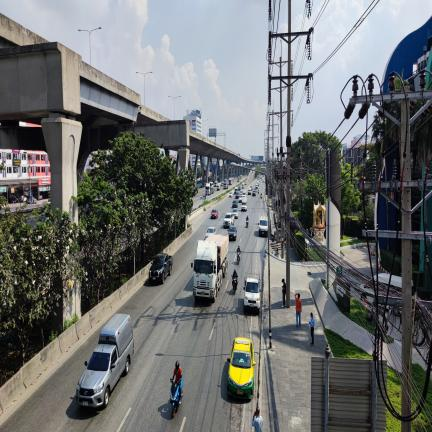car: (243, 278, 260, 313), (258, 216, 268, 236), (204, 227, 217, 240), (223, 213, 234, 228), (228, 225, 237, 240), (211, 209, 218, 219), (232, 209, 238, 219), (232, 200, 238, 208), (238, 194, 243, 203), (235, 191, 239, 199), (228, 192, 233, 197), (248, 189, 252, 195), (252, 190, 256, 196), (241, 184, 244, 189)
human: (172, 360, 183, 404), (252, 407, 262, 432), (295, 293, 302, 327), (309, 312, 315, 347), (281, 279, 286, 307), (232, 268, 238, 278), (237, 245, 241, 253), (246, 215, 249, 222)
motorbike: (170, 378, 182, 417), (232, 277, 238, 295), (237, 252, 240, 265), (246, 220, 249, 228), (261, 194, 262, 199)
pickup: (149, 253, 172, 283)
taxi: (227, 337, 256, 399)
truck: (191, 234, 229, 302), (243, 273, 261, 313), (223, 179, 228, 189), (228, 177, 232, 185)
van: (76, 314, 134, 407), (241, 195, 247, 211), (234, 186, 238, 193)
